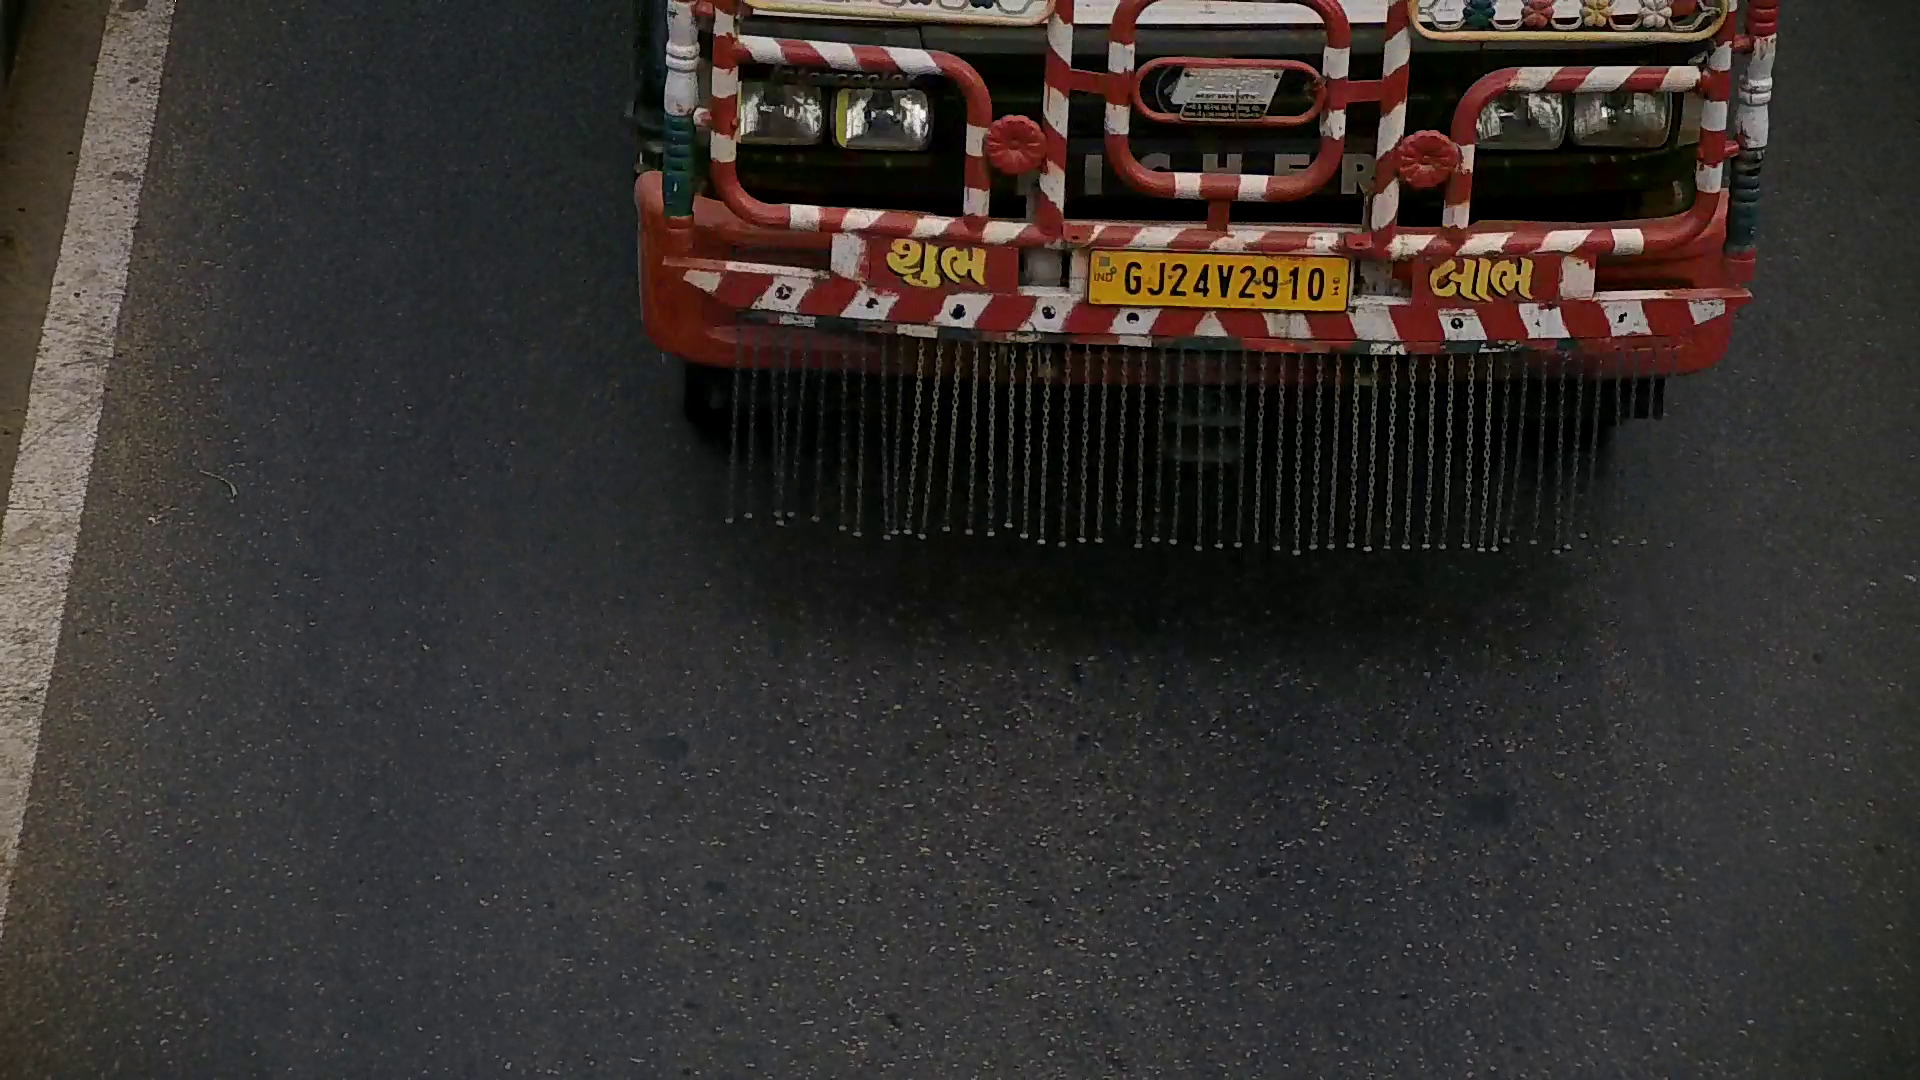numberplate: (1081, 245, 1360, 318)
